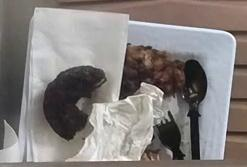donut: (43, 66, 107, 140)
unknown: (120, 45, 185, 99)
